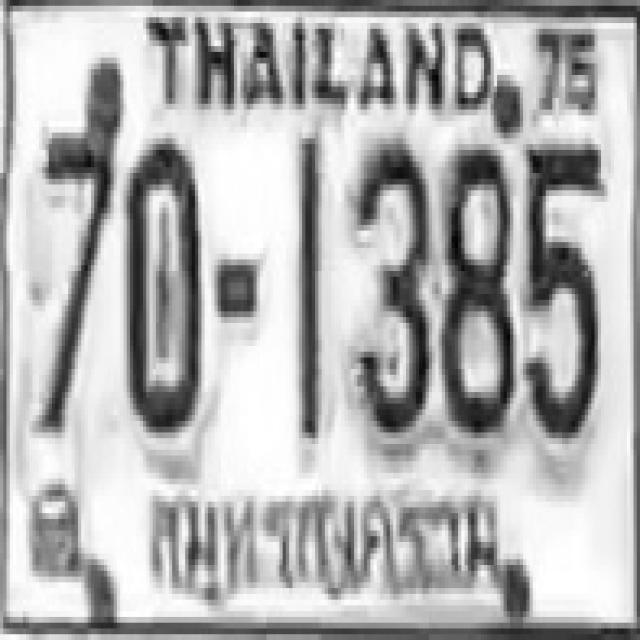0: (126, 132, 204, 426)
1: (294, 130, 320, 435)
3: (351, 136, 429, 436)
5: (523, 136, 601, 441)
7: (36, 72, 123, 430)
8: (439, 142, 513, 436)
SKM: (134, 470, 509, 610)
